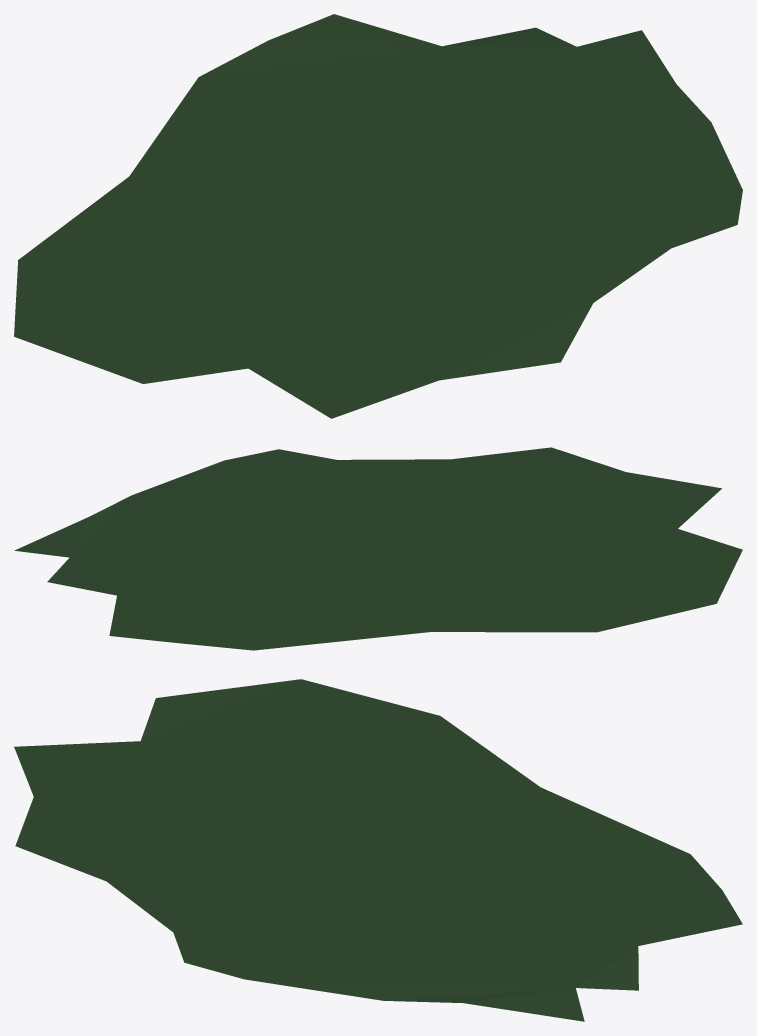
The model's file is ground dikit.fbx.
3 renders of one model, top to bottom at view 1: azimuth 30°, elevation 25°; view 2: azimuth 150°, elevation 25°; view 3: azimuth 270°, elevation 25°, orthographic. The views are drawn at different scales.
Visible parts, largest first — view 1: Ground_Middle; view 2: Ground_Middle; view 3: Ground_Middle.
Boxes of the visible parts, <box> form: Ground_Middle: <box>14,14,742,418</box>; Ground_Middle: <box>14,447,742,650</box>; Ground_Middle: <box>14,679,742,1021</box>.
Size of the model in its own units: 3241 by 24.56 by 2939.
